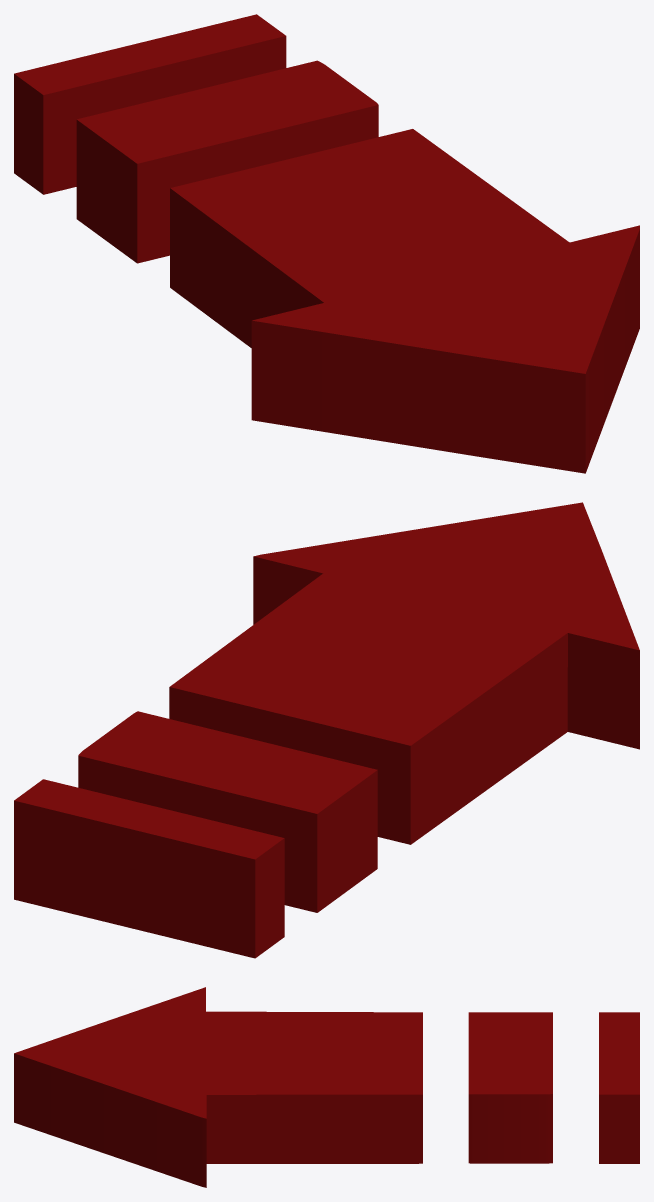
The model's file is ArrowGuide.glb.
The picture shows the model from 3 angles, top to bottom: view 1: azimuth 30°, elevation 25°; view 2: azimuth 150°, elevation 25°; view 3: azimuth 270°, elevation 25°; orthographic projection. The views are drawn at different scales.
Parts seen in each view (by area): view 1: Curve; view 2: Curve; view 3: Curve.
Boxes of the visible parts, x1,y1,x2,y2 form: Curve: (14,14,639,473); Curve: (14,502,639,958); Curve: (14,987,639,1187).
Bounding box in the file's own units: 1.25 × 0.3065 × 2.51.
